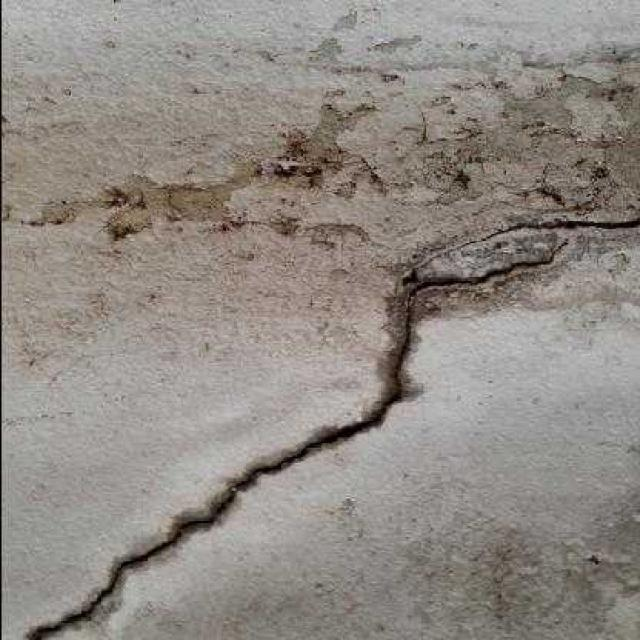D00: (26, 238, 566, 640)
